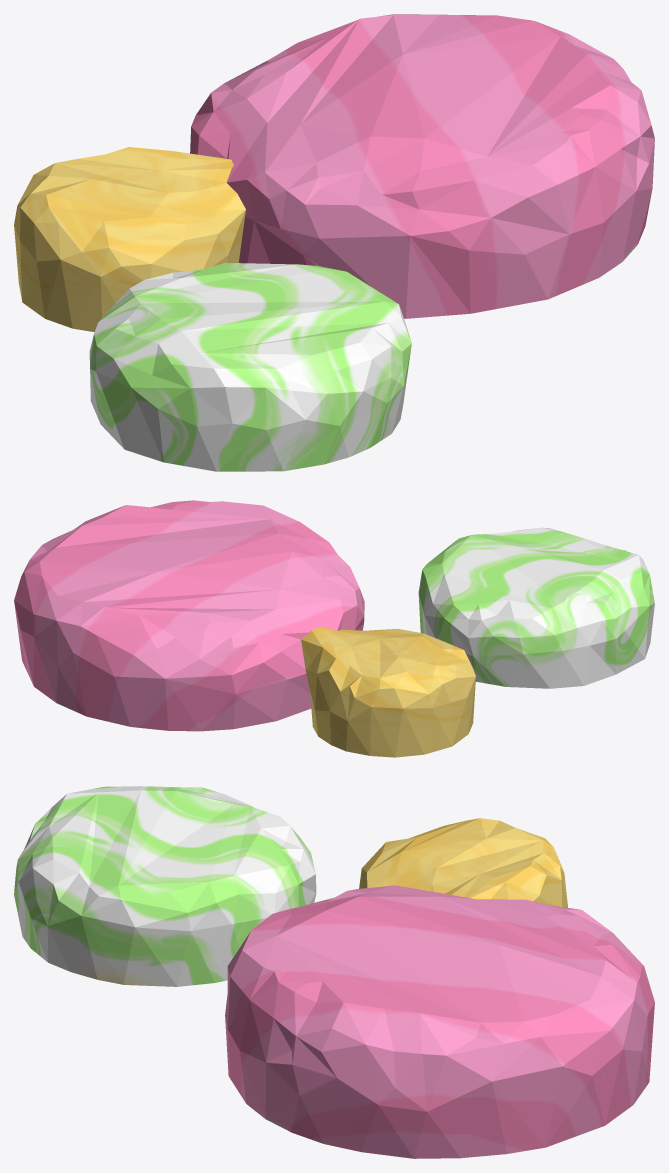
File: candyislands.glb
The picture shows the model from 3 angles, top to bottom: view 1: azimuth 30°, elevation 25°; view 2: azimuth 150°, elevation 25°; view 3: azimuth 270°, elevation 25°; orthographic projection. The views are drawn at different scales.
Visible parts, largest first — view 1: Circle.001; view 2: Circle.001; view 3: Circle.001.
Part boxes in pixels (bbox=[...]): Circle.001: bbox=[14, 14, 654, 471]; Circle.001: bbox=[14, 500, 654, 757]; Circle.001: bbox=[14, 786, 654, 1158].
Size of the model in its own units: 133 by 28.54 by 119.
1 material, 1 textured.
